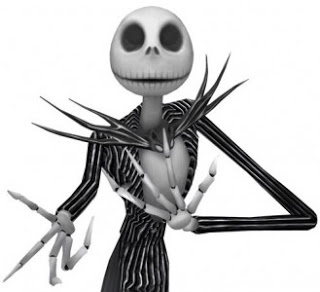Jack Skellington: (4, 6, 318, 292)
